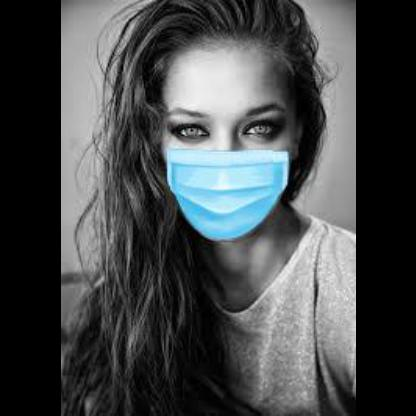Surgical Mask: (151, 50, 305, 248)
